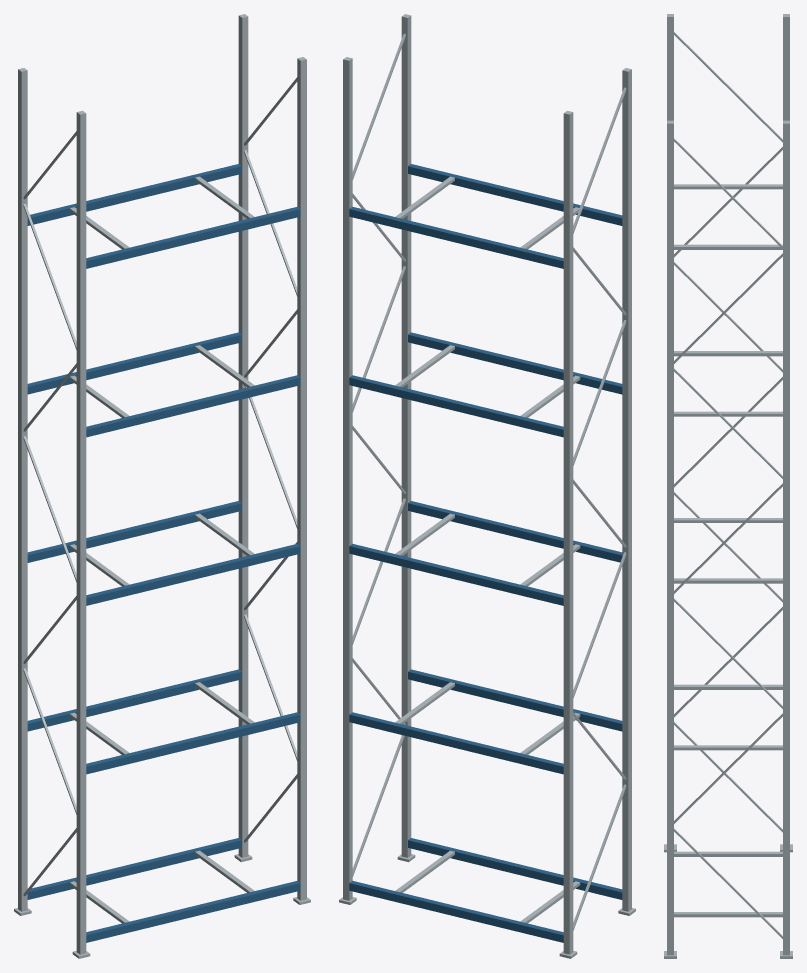
File: beam-rack-5.glb
The picture shows the model from 3 angles, left to right: view 1: azimuth 30°, elevation 25°; view 2: azimuth 150°, elevation 25°; view 3: azimuth 270°, elevation 25°; orthographic projection.
Parts seen in each view (by area): view 1: beam-rack-5_galvanized_steel, beam-rack-5_beam_blue; view 2: beam-rack-5_galvanized_steel, beam-rack-5_beam_blue; view 3: beam-rack-5_galvanized_steel.
Boxes of the visible parts, x1,y1,x2,y2 form: beam-rack-5_galvanized_steel: [14, 14, 310, 958]; beam-rack-5_beam_blue: [27, 164, 300, 942]; beam-rack-5_galvanized_steel: [339, 14, 635, 958]; beam-rack-5_beam_blue: [349, 164, 622, 942]; beam-rack-5_galvanized_steel: [664, 14, 792, 958].
Size of the model in its own units: 2.88 by 10 by 1.4.
